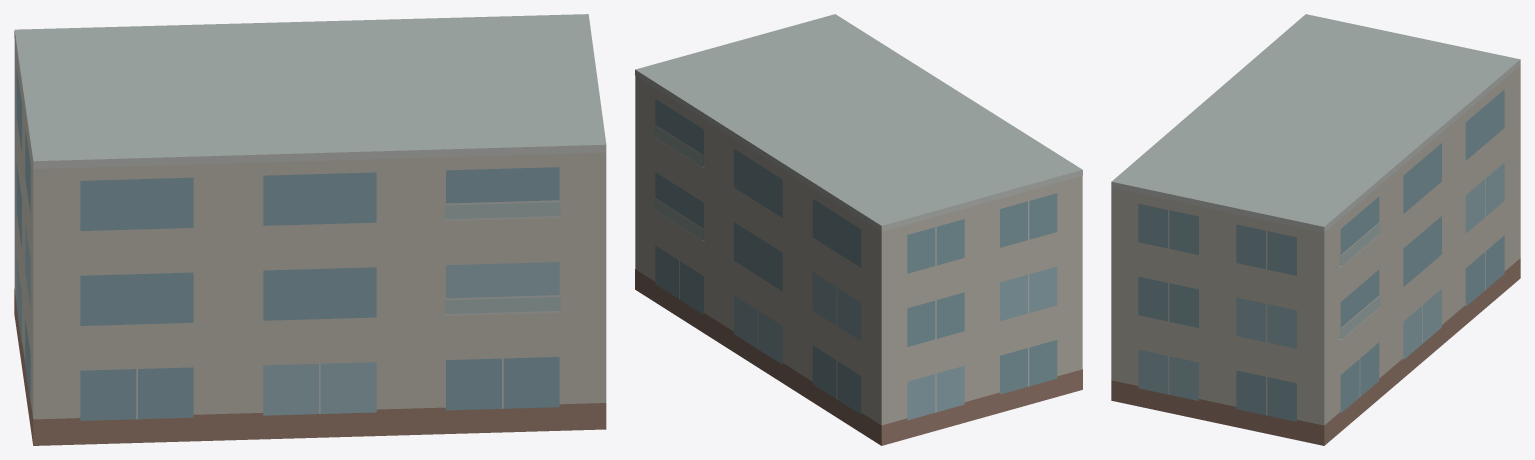
Rendered from survey-upis-32890946.glb.
The picture shows the model from 3 angles, left to right: view 1: azimuth 30°, elevation 25°; view 2: azimuth 150°, elevation 25°; view 3: azimuth 270°, elevation 25°; orthographic projection. The views are drawn at different scales.
Visible parts, largest first — view 1: survey-upis-32890946.tmp; view 2: survey-upis-32890946.tmp; view 3: survey-upis-32890946.tmp.
Part boxes in pixels (bbox=[...]): survey-upis-32890946.tmp: bbox=[14, 14, 606, 445]; survey-upis-32890946.tmp: bbox=[635, 14, 1082, 445]; survey-upis-32890946.tmp: bbox=[1111, 14, 1520, 445].
Size of the model in its own units: 18.78 by 9 by 15.25.
